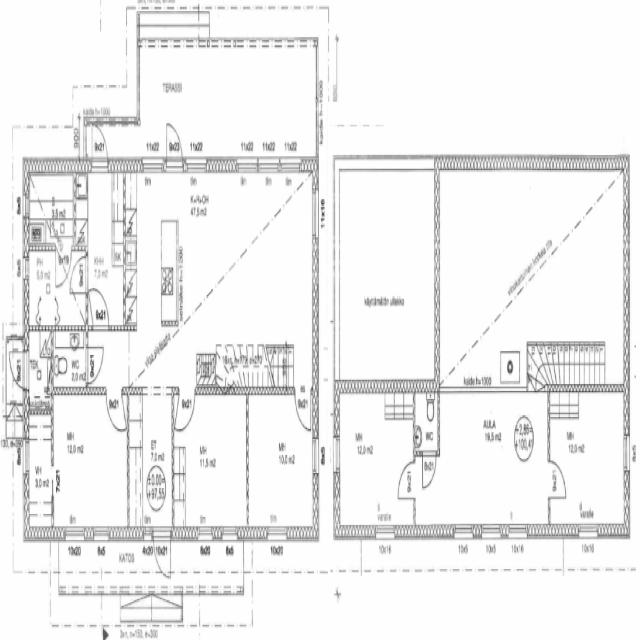door: (153, 527, 170, 583), (7, 352, 29, 391), (166, 120, 182, 173), (92, 122, 107, 172), (106, 387, 122, 433), (294, 387, 310, 432), (179, 388, 195, 432), (547, 461, 565, 498), (70, 256, 88, 292), (85, 348, 103, 383), (56, 245, 71, 286), (398, 462, 415, 497), (94, 289, 108, 330), (422, 451, 436, 486)
